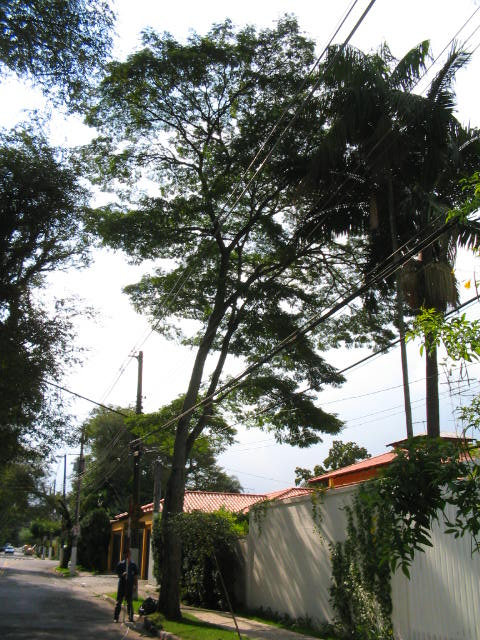crown: (62, 15, 464, 451)
stem: (149, 461, 201, 620)
stick: (118, 494, 136, 623)
tree: (59, 14, 466, 621)
